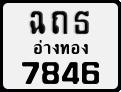letters: (81, 61, 100, 86), (21, 61, 40, 85), (41, 61, 60, 85), (73, 10, 91, 35), (62, 61, 80, 86), (29, 10, 46, 36), (51, 10, 68, 36)
province: (32, 37, 89, 56)
